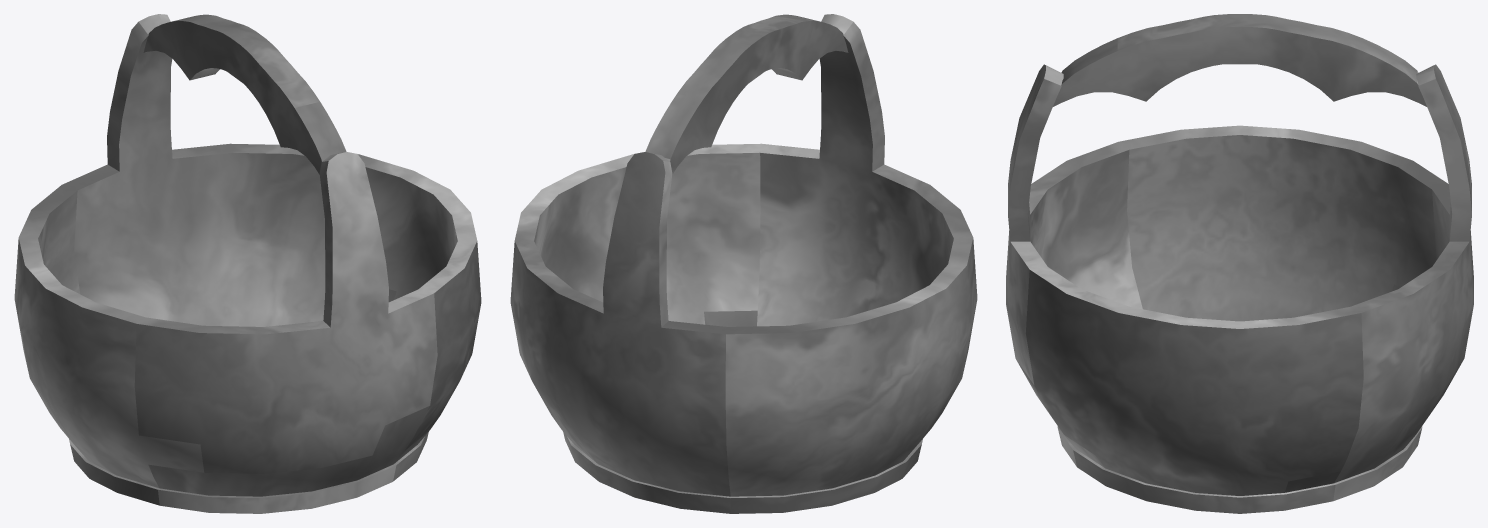
File: SM_wood_jar.fbx
3 views of the same model, side by side, from view 1: azimuth 30°, elevation 25°; view 2: azimuth 150°, elevation 25°; view 3: azimuth 270°, elevation 25° (orthographic). The views are drawn at different scales.
Visible parts, largest first — view 1: SM_wood_jar; view 2: SM_wood_jar; view 3: SM_wood_jar.
Part boxes in pixels (x1,y1,x2,y2): SM_wood_jar: (14,14,481,513); SM_wood_jar: (510,14,977,513); SM_wood_jar: (1006,14,1473,513).
Bounding box in the file's own units: 73.05 × 69.7 × 68.05.
Materials: 1 (1 with a texture image).
